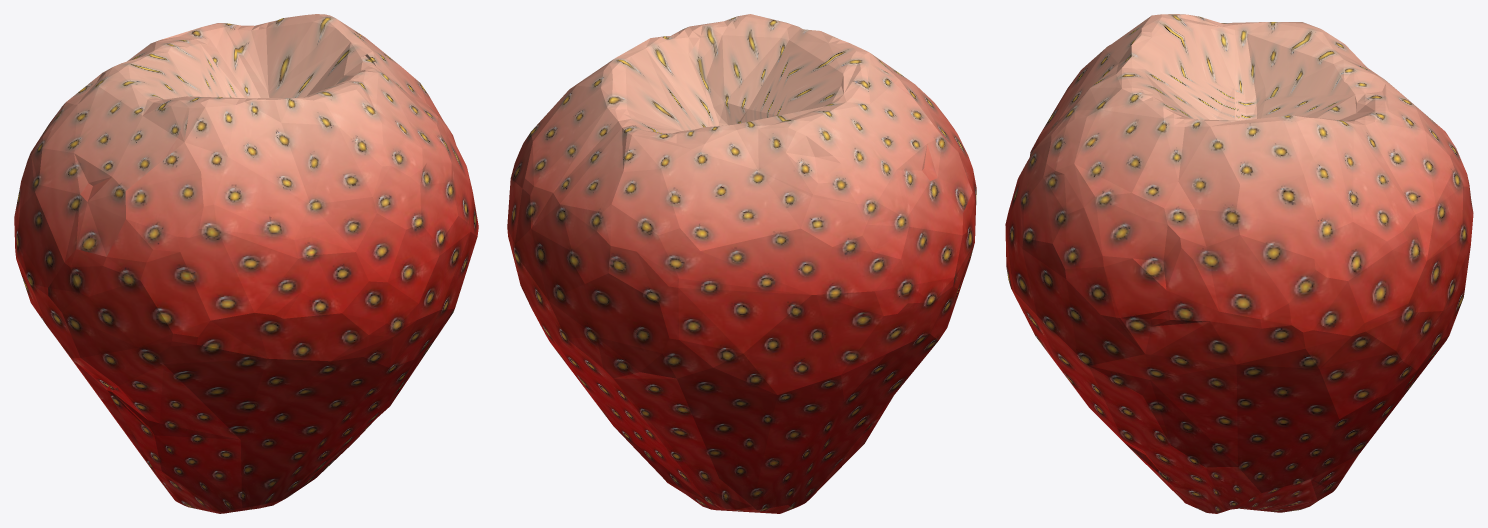
The picture shows the model from 3 angles, left to right: view 1: azimuth 30°, elevation 25°; view 2: azimuth 150°, elevation 25°; view 3: azimuth 270°, elevation 25°; orthographic projection. The views are drawn at different scales.
Parts seen in each view (by area): view 1: _004_Meshed; view 2: _004_Meshed; view 3: _004_Meshed.
Boxes of the visible parts, left/top/right/bottom form: _004_Meshed: left=14, top=14, right=478, bottom=513; _004_Meshed: left=507, top=14, right=976, bottom=513; _004_Meshed: left=1005, top=14, right=1473, bottom=513.
Bounding box in the file's own units: 0.1098 × 0.1046 × 0.1135.
Materials: 1 (1 with a texture image).
